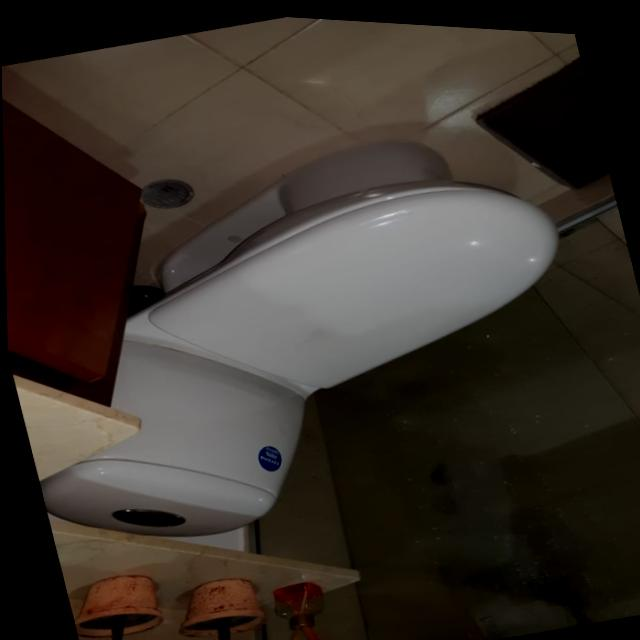toilet: (1, 84, 618, 586)
